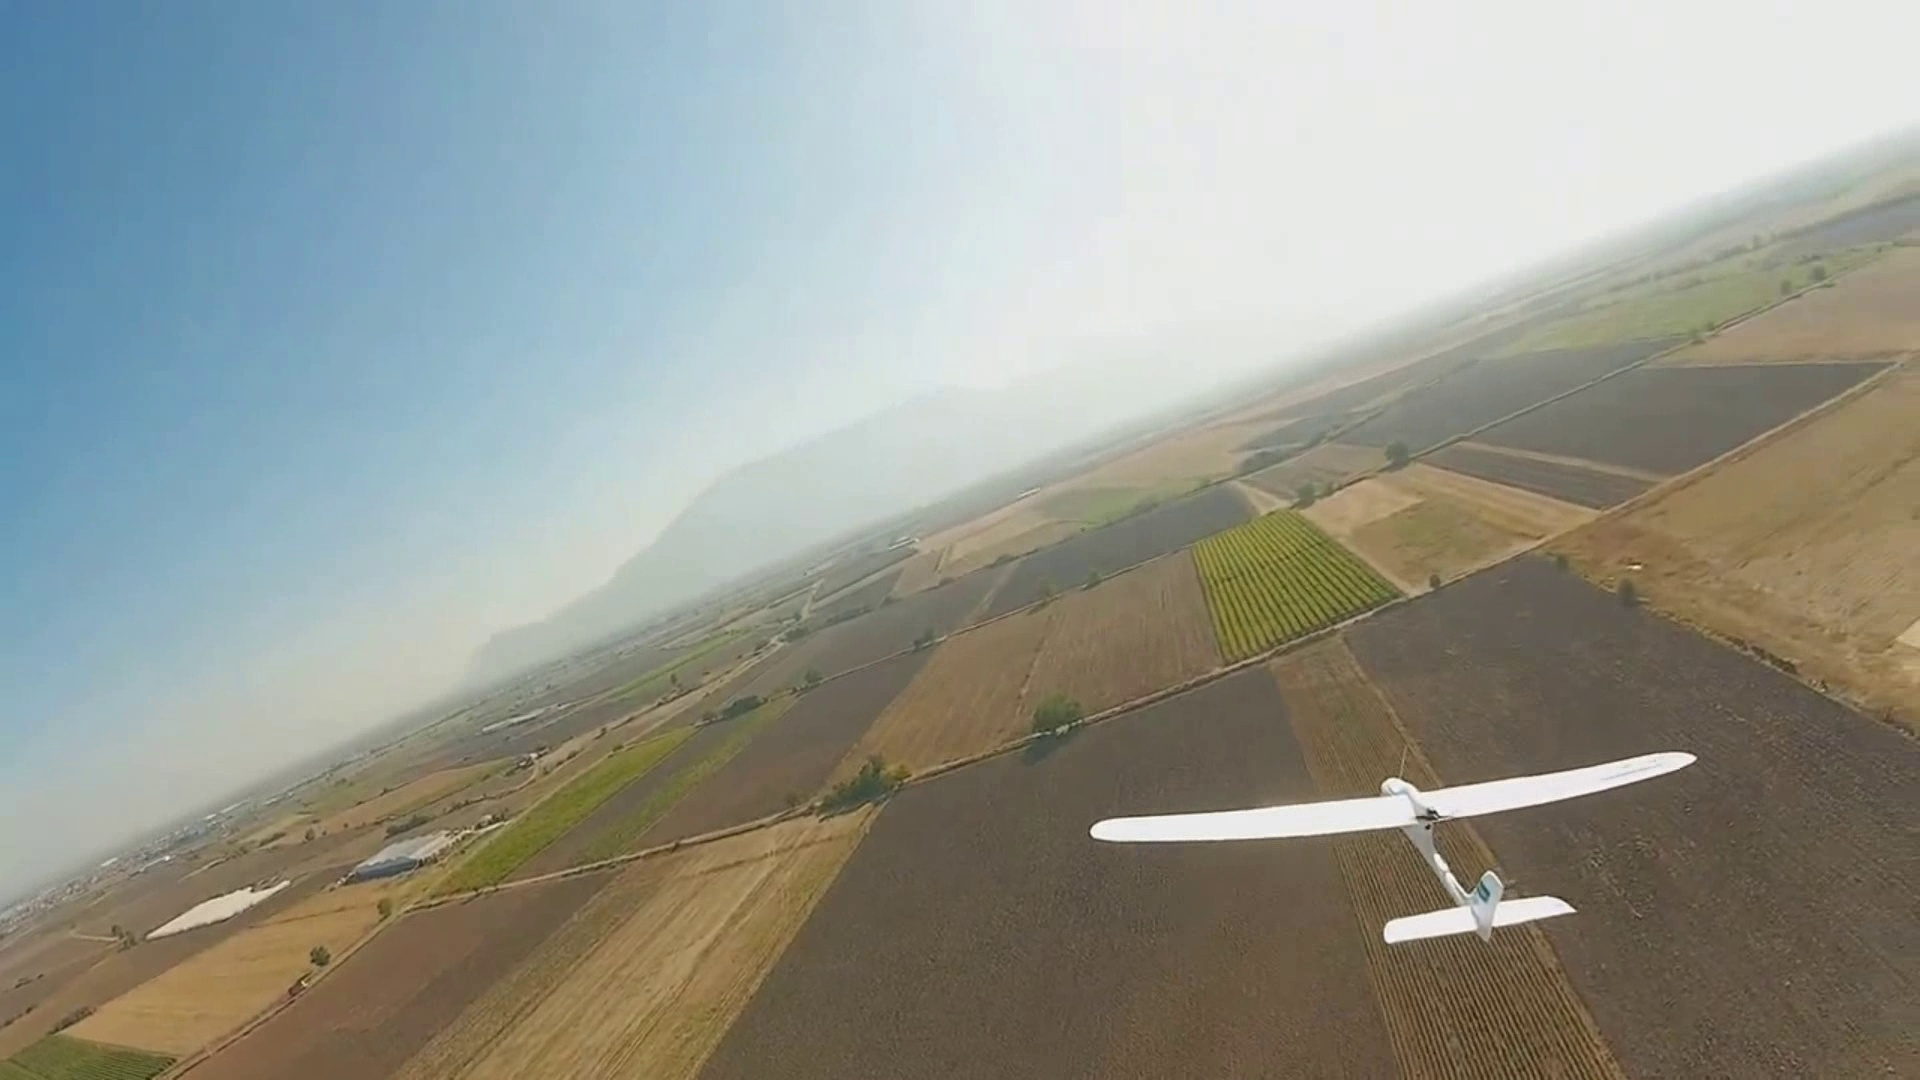airplane: (1091, 753, 1695, 946)
